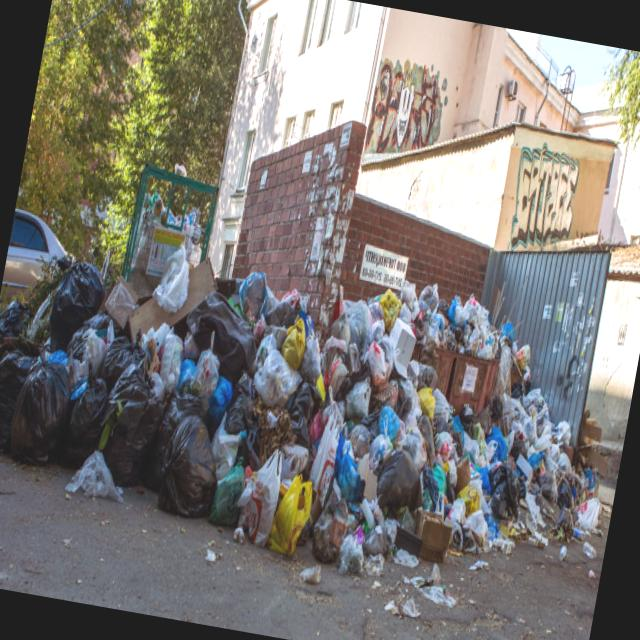garbage: (0, 218, 610, 638)
